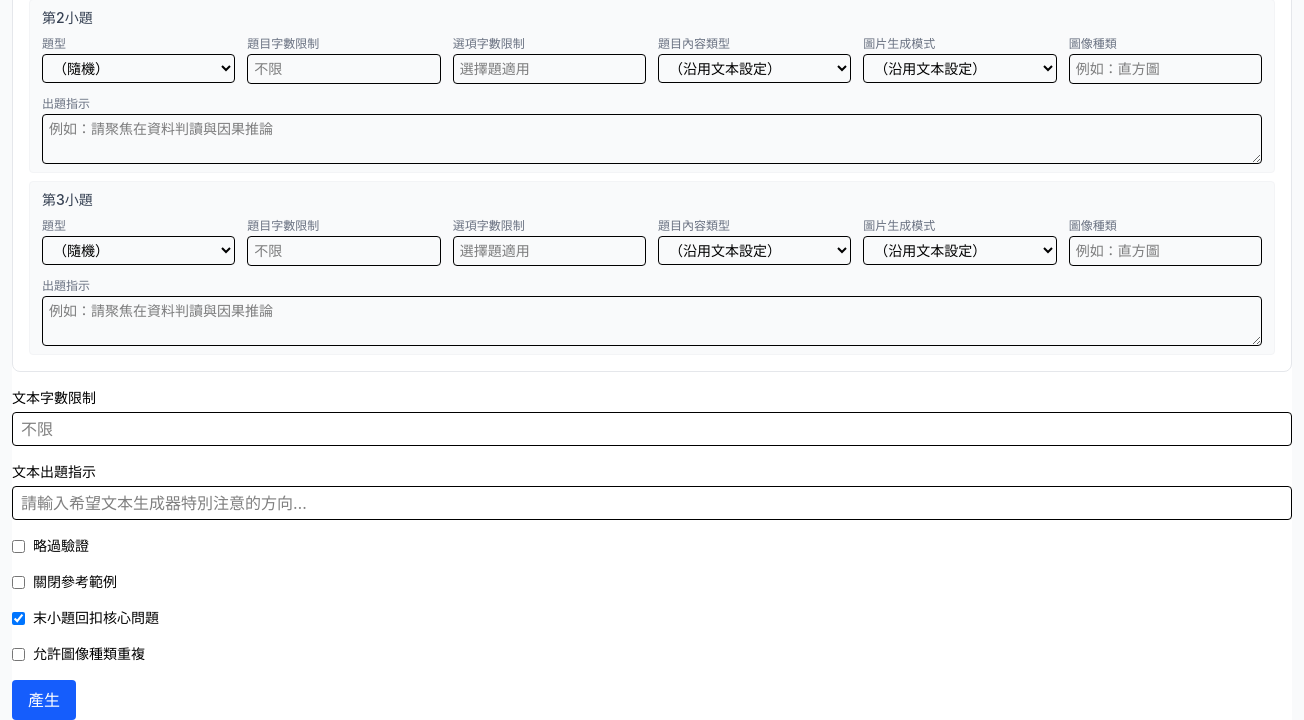
ParamForm 確認頁修改 preview re-fetch (#445) › regression — opening confirmation with zero 確認頁修改 issues exactly one preview request
(page scrolled)
Click the button "產生": (44, 700) x1=12 y1=680 x2=76 y2=719
Wait 1000 ms
(page scrolled)
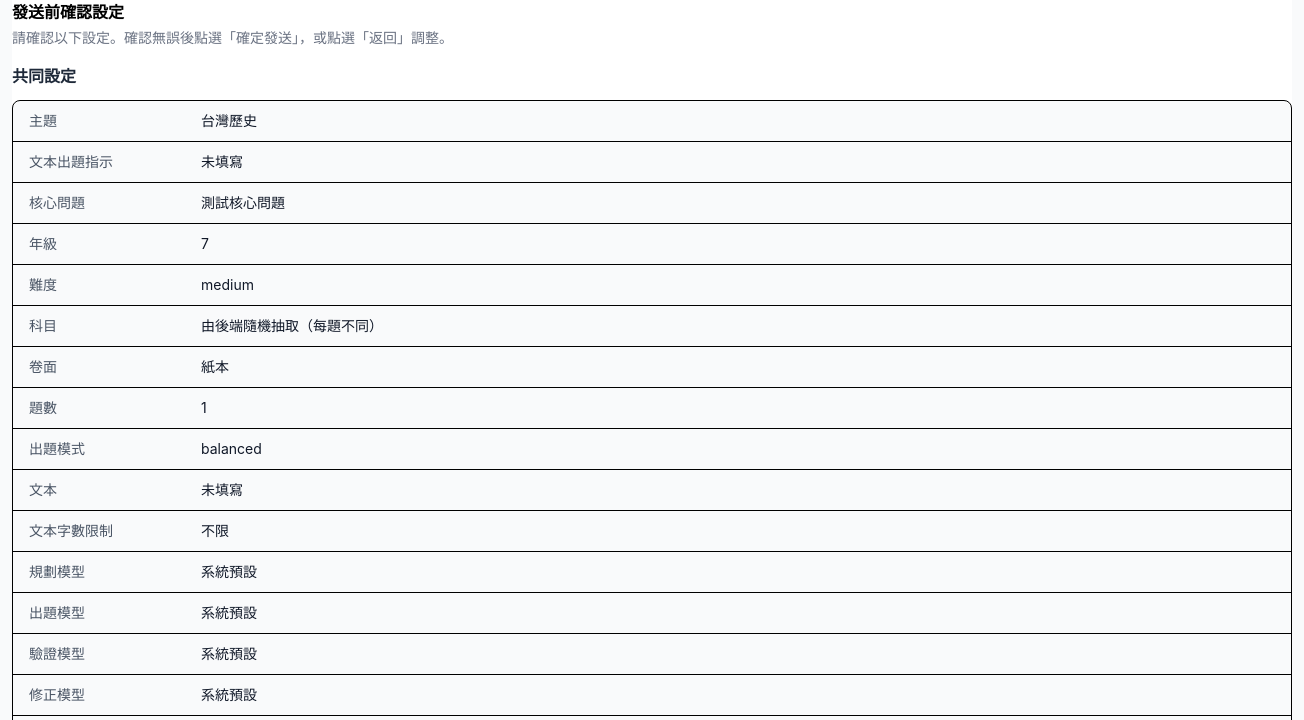
Now the heading "發送前確認設定" is shown, box x1=12 y1=2 x2=124 y2=22
